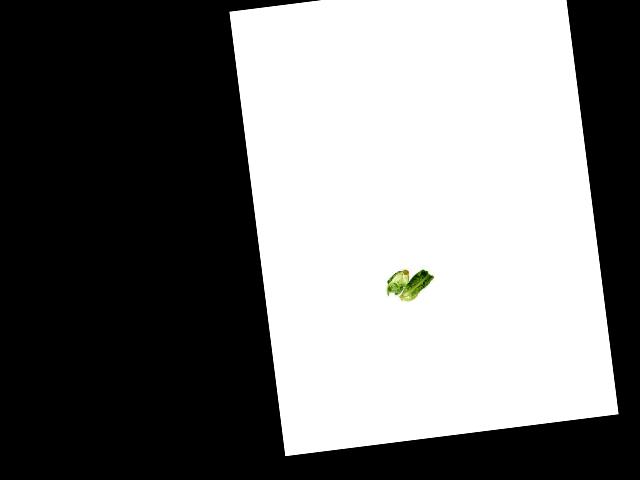lettuce: (382, 265, 413, 297)
